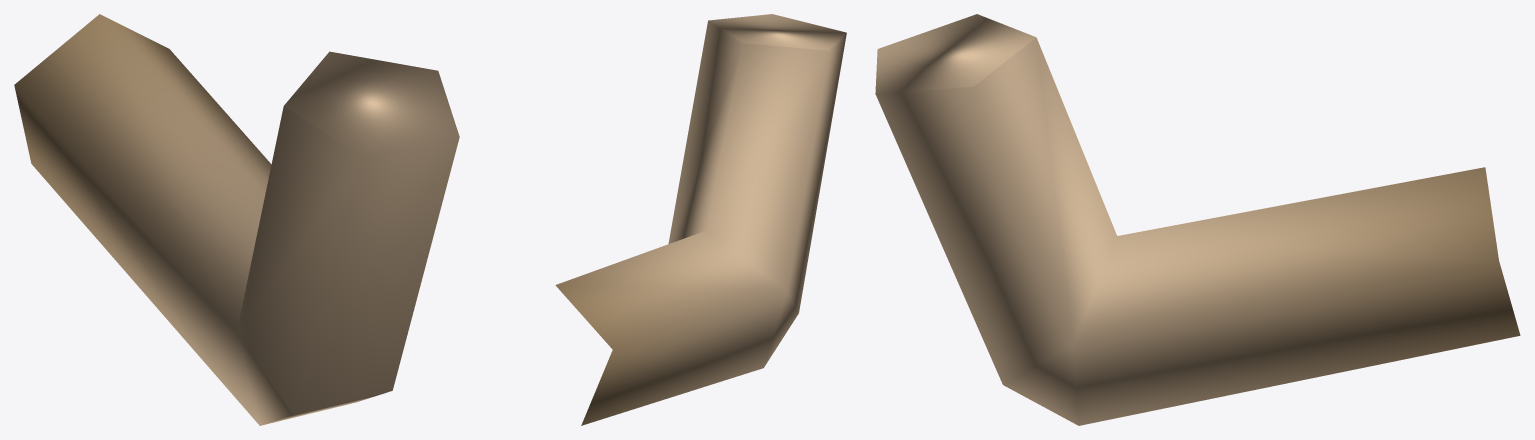
The model's file is RookiesShopWoodenHookA_5.glb.
The picture shows the model from 3 angles, left to right: view 1: azimuth 30°, elevation 25°; view 2: azimuth 150°, elevation 25°; view 3: azimuth 270°, elevation 25°; orthographic projection. The views are drawn at different scales.
Parts seen in each view (by area): view 1: RookiesShopWoodenHookA; view 2: RookiesShopWoodenHookA; view 3: RookiesShopWoodenHookA.
Part boxes in pixels (x1,y1,x2,y2): RookiesShopWoodenHookA: (14, 14, 459, 425); RookiesShopWoodenHookA: (555, 14, 846, 425); RookiesShopWoodenHookA: (875, 14, 1520, 425).
Bounding box in the file's own units: 0.1069 × 0.2478 × 0.396.
